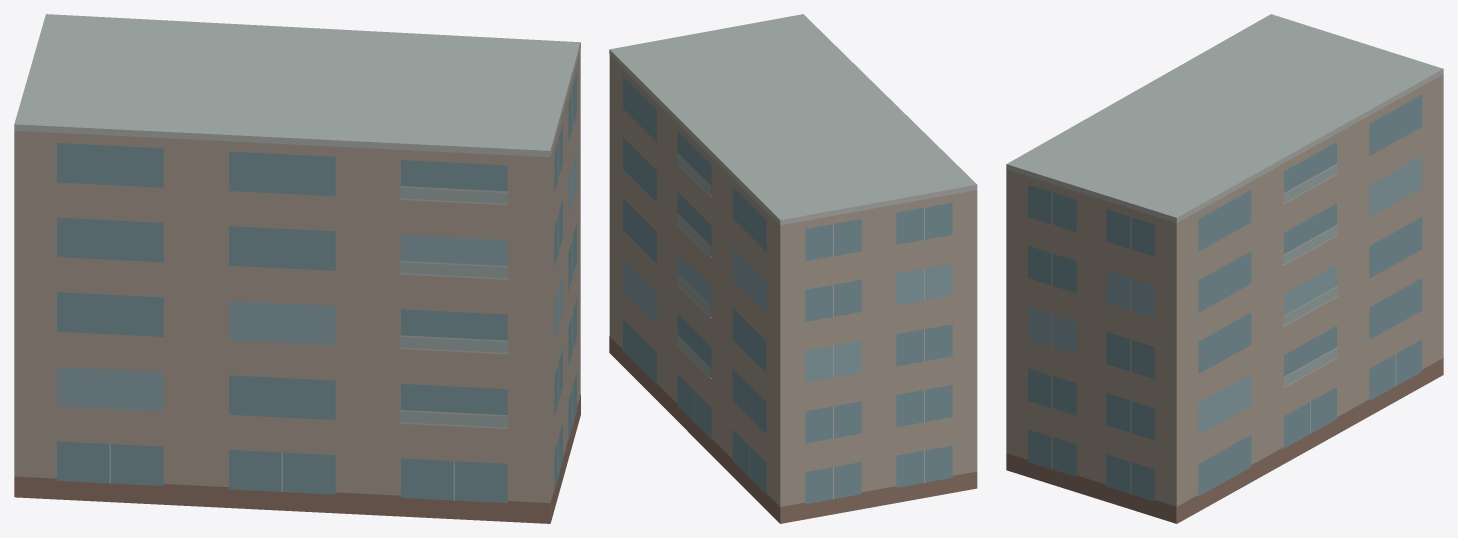
File: survey-upis-32967349.glb
The picture shows the model from 3 angles, left to right: view 1: azimuth 30°, elevation 25°; view 2: azimuth 150°, elevation 25°; view 3: azimuth 270°, elevation 25°; orthographic projection. The views are drawn at different scales.
Visible parts, largest first — view 1: survey-upis-32967349.tmp; view 2: survey-upis-32967349.tmp; view 3: survey-upis-32967349.tmp.
Boxes of the visible parts, x1,y1,x2,y2 form: survey-upis-32967349.tmp: (14, 14, 580, 523); survey-upis-32967349.tmp: (609, 14, 977, 523); survey-upis-32967349.tmp: (1006, 14, 1443, 523).
Bounding box in the file's own units: 20.29 × 14.2 × 18.4.
